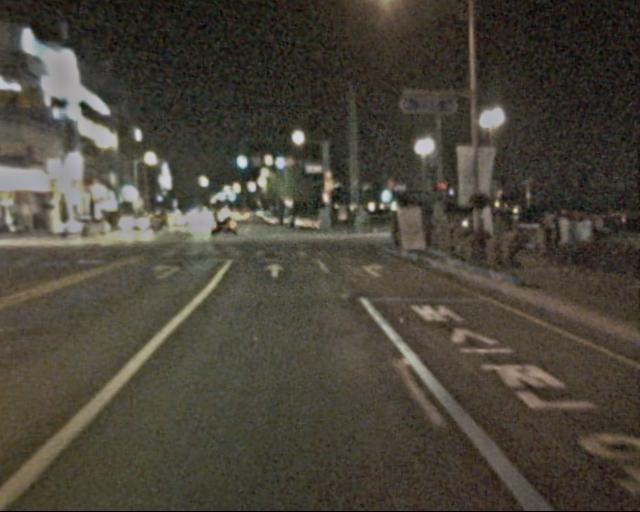person: (538, 216, 564, 259), (386, 218, 403, 259)
